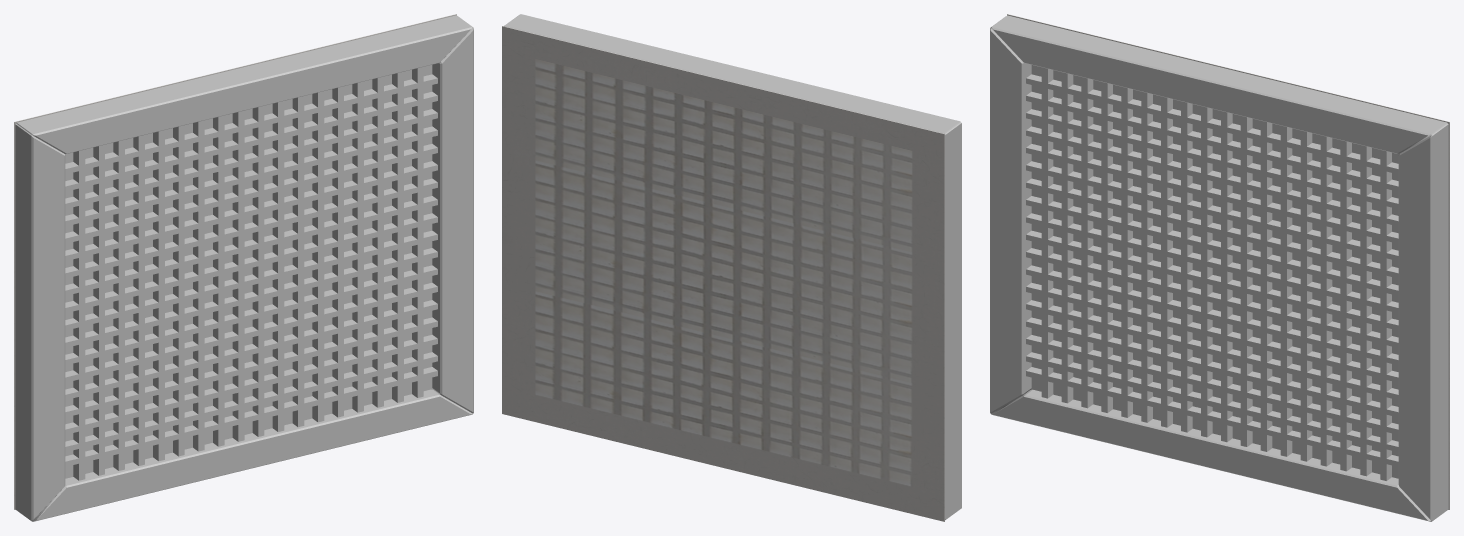
Rendered from SM_SJJ_HG_Window01A.fbx.
3 views of the same model, side by side, from view 1: azimuth 30°, elevation 25°; view 2: azimuth 150°, elevation 25°; view 3: azimuth 330°, elevation 25° (orthographic).
Parts seen in each view (by area): view 1: SM_SJJ_HG_Window01A; view 2: SM_SJJ_HG_Window01A; view 3: SM_SJJ_HG_Window01A.
Part boxes in pixels (<box>): SM_SJJ_HG_Window01A: <box>14,14,473,521</box>; SM_SJJ_HG_Window01A: <box>502,14,961,521</box>; SM_SJJ_HG_Window01A: <box>990,14,1449,521</box>.
Bounding box in the file's own units: 83.66 × 5.93 × 70.03.
